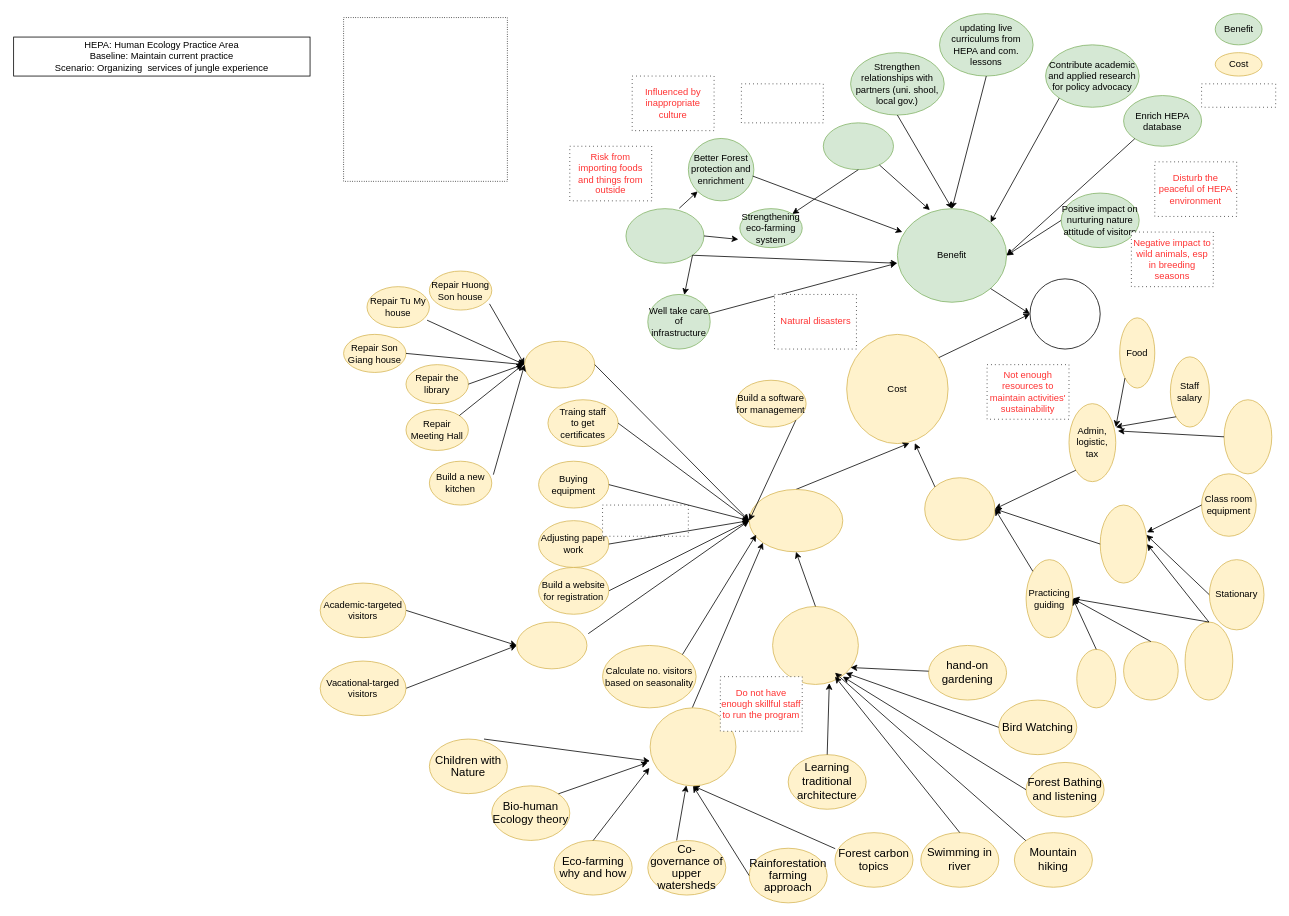
This 1289x916 diagram has some shape labels left out. The shapes that lost their labels are listed below. From the top down, each one's centre as x and y in pixels, then its label:
At [425,99]: "Should HEPA organize jungle experience as a main activity".
At [782,103]: "Too focused on receiving guests, neglecting the garden and forest checkng".
At [1238,95]: "Risk".
At [858,146]: "Labor from visitors as volunteers".
At [664,235]: "Income from services".
At [1064,313]: "NPV".
At [559,364]: "Reparing and building houses".
At [1247,436]: "Transport".
At [645,520]: "Boder area, dificulty for foreigners to access".
At [795,520]: "Preparing phase".
At [959,508]: "operating phase".
At [1123,543]: "Theoritical guiding".
At [551,645]: "Online survey for the need of potential customers".
At [815,645]: "HEPA for senses of Nature".
At [1208,660]: "Instructor salary".
At [1096,678]: "Tools".
At [1150,670]: "Materials".
At [692,746]: "Academic (re)build/Improving curriculum/program".
